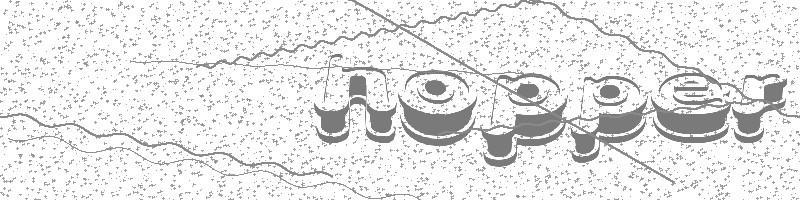e: (645, 70, 733, 147)
h: (308, 46, 400, 155)
o: (395, 63, 474, 151)
p: (482, 67, 569, 169), (567, 71, 648, 163)
r: (731, 68, 789, 152)
